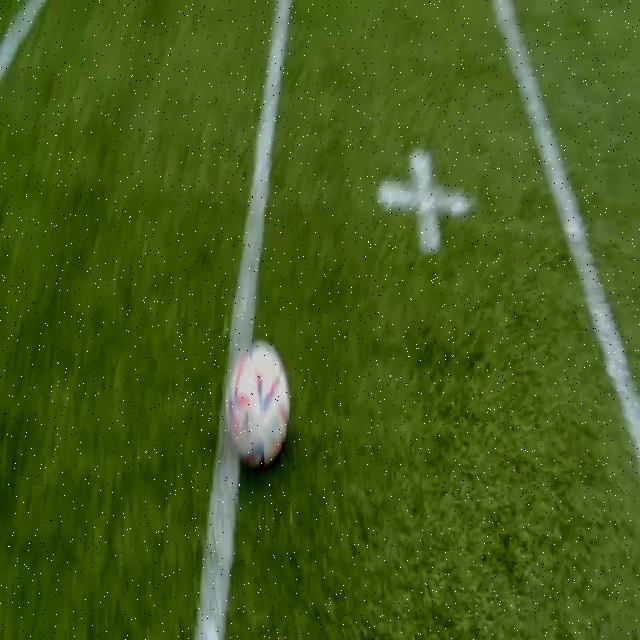ball: (225, 338, 290, 468)
